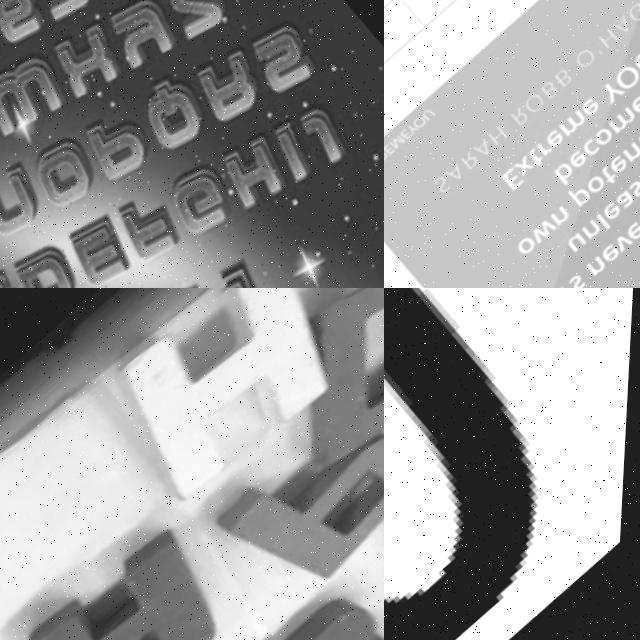0: (384, 288, 640, 640)
6: (0, 0, 56, 56)
7: (14, 0, 114, 42)
A: (4, 518, 255, 640), (447, 163, 470, 186), (475, 139, 498, 162), (618, 191, 640, 213), (613, 17, 635, 39)
B: (206, 590, 384, 640), (556, 162, 581, 188), (555, 70, 576, 91), (542, 80, 562, 102)
C: (583, 140, 604, 161)
D: (264, 288, 384, 478)
E: (504, 168, 529, 194), (581, 98, 604, 121), (569, 151, 592, 173), (604, 245, 626, 267), (611, 157, 633, 179), (547, 130, 569, 152), (604, 204, 626, 225), (627, 223, 640, 246), (384, 141, 398, 158), (401, 127, 416, 142), (631, 97, 640, 118)
G: (627, 3, 640, 26)
H: (63, 288, 363, 539), (599, 30, 621, 52), (490, 126, 511, 148)
L: (599, 216, 616, 235)
M: (560, 111, 591, 140), (610, 109, 640, 137), (390, 133, 408, 152)
N: (584, 221, 608, 245), (589, 258, 612, 280), (552, 208, 574, 230), (623, 144, 640, 167)
O: (613, 64, 640, 96), (593, 127, 618, 152), (524, 92, 549, 117), (519, 235, 543, 259), (587, 175, 611, 199), (575, 48, 599, 72), (414, 114, 430, 131)
P: (211, 390, 384, 617), (570, 184, 597, 211)
R: (462, 151, 483, 172), (511, 108, 532, 129), (539, 142, 555, 159), (384, 148, 391, 163)
S: (435, 176, 456, 197), (572, 274, 592, 288), (630, 180, 640, 202), (384, 31, 390, 41)
T: (601, 167, 623, 190), (528, 148, 550, 171)
U: (570, 234, 592, 255), (422, 107, 439, 124), (632, 48, 640, 79)
V: (616, 235, 637, 257)
W: (532, 218, 562, 247)
X: (516, 158, 538, 180)
Y: (601, 80, 629, 108), (407, 121, 423, 137)
